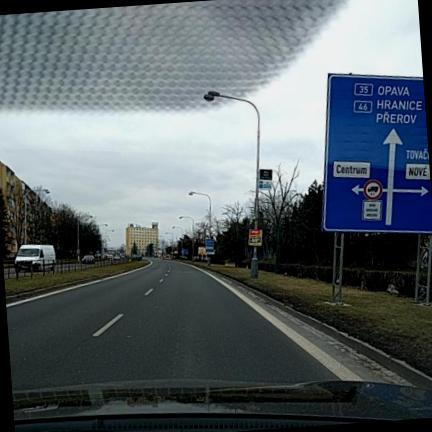Road: (6, 260, 337, 390)
